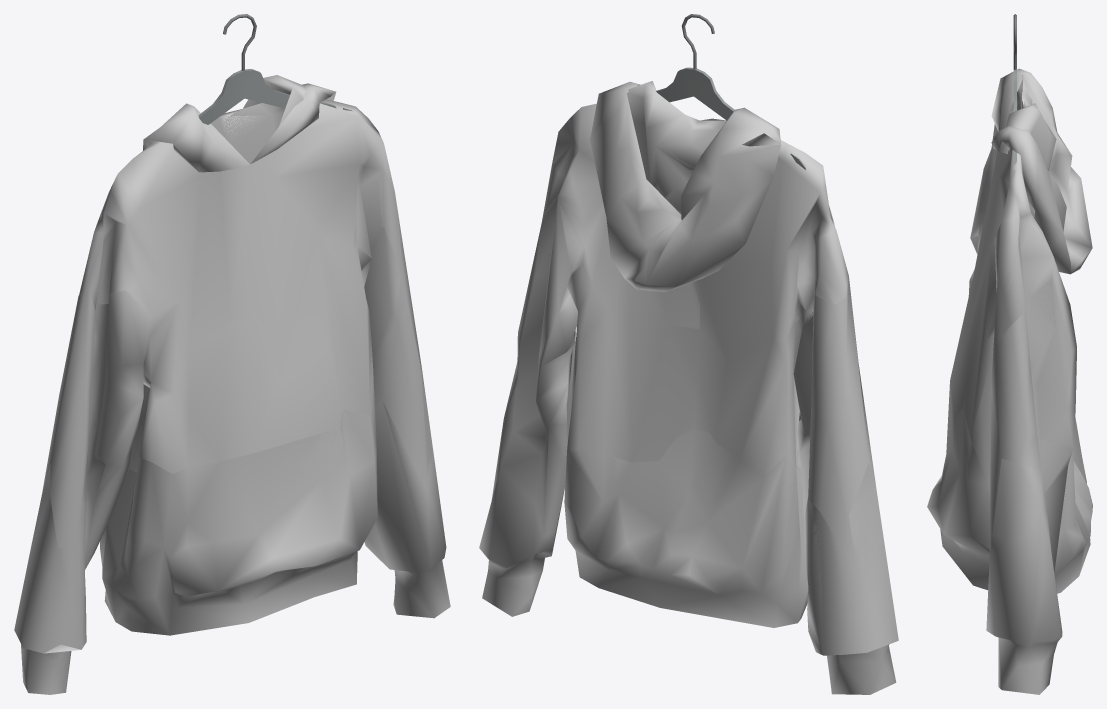
Rendered from hoody.FBX.
The picture shows the model from 3 angles, left to right: view 1: azimuth 30°, elevation 25°; view 2: azimuth 150°, elevation 25°; view 3: azimuth 270°, elevation 25°; orthographic projection. The views are drawn at different scales.
Parts seen in each view (by area): view 1: hoody_LOD0, _Hanger-5_LOD0; view 2: hoody_LOD0, _Hanger-5_LOD0; view 3: hoody_LOD0, _Hanger-5_LOD0.
Boxes of the visible parts, x1=… form: hoody_LOD0: x1=14, y1=75, x2=450, y2=694; _Hanger-5_LOD0: x1=198, y1=14, x2=352, y2=124; hoody_LOD0: x1=479, y1=81, x2=898, y2=694; _Hanger-5_LOD0: x1=656, y1=14, x2=805, y2=169; hoody_LOD0: x1=927, y1=68, x2=1092, y2=694; _Hanger-5_LOD0: x1=1013, y1=14, x2=1016, y2=177.
Size of what is drawn, in the model's own units: 58.49 by 21.85 by 86.09.
